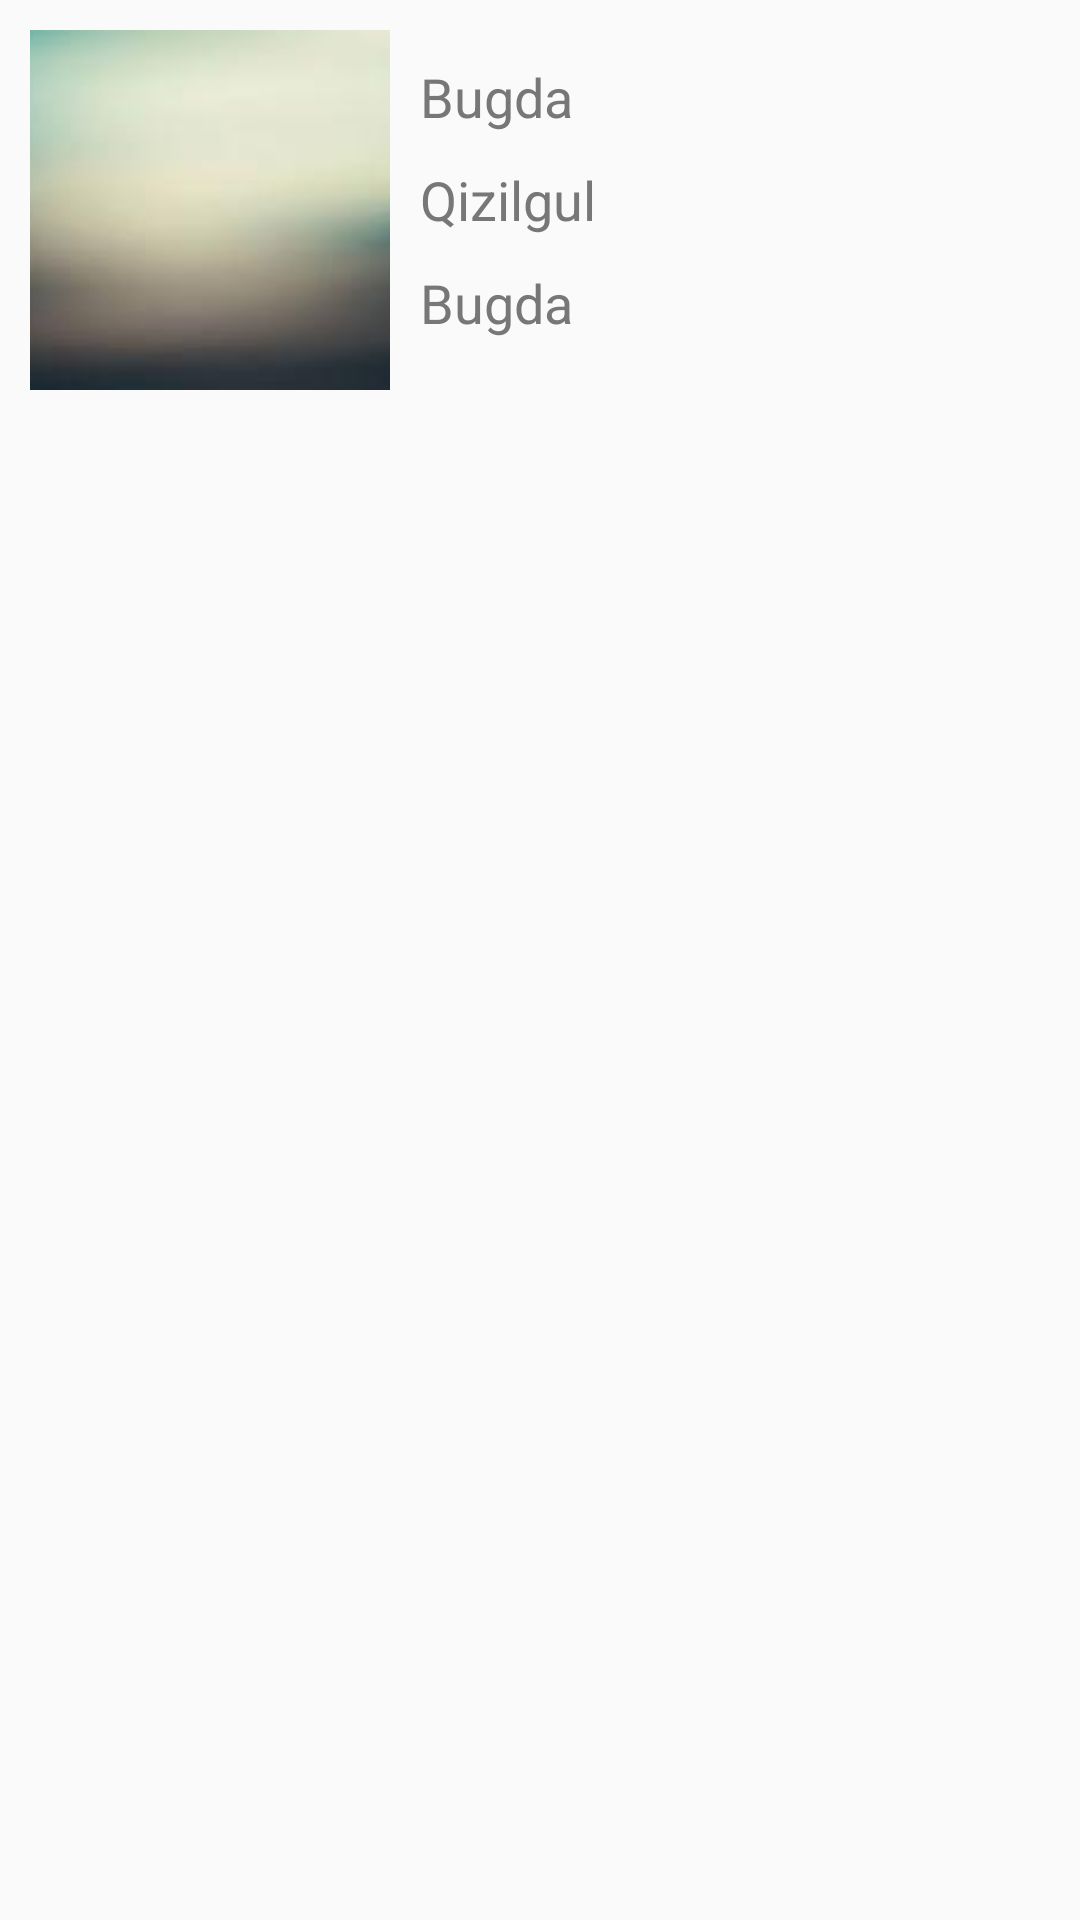

Named icons in this screenshot (1080 × 1920) and their centers, [x,y]:
blury: [210,210]
